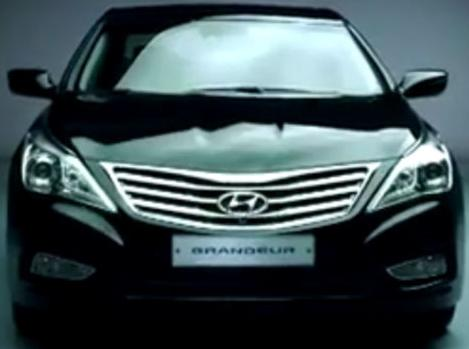front_view: (12, 123, 467, 321)
headlight: (19, 124, 119, 218)
